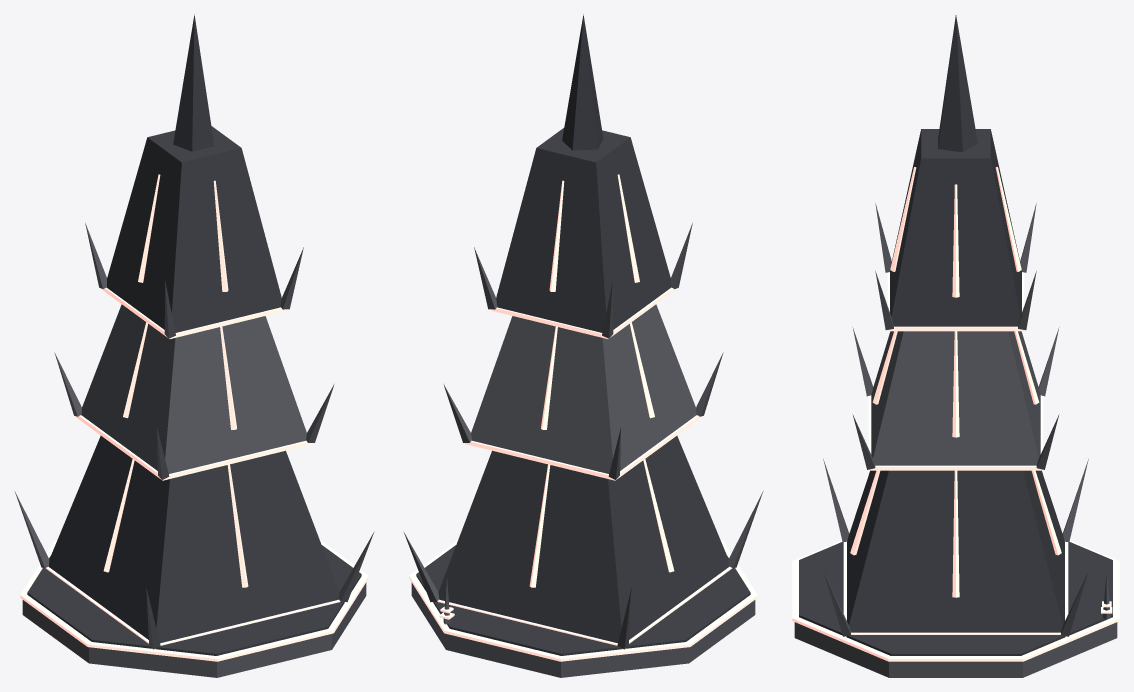
Rendered from zone_high_5_t2.glb.
3 renders of one model, left to right at view 1: azimuth 30°, elevation 25°; view 2: azimuth 150°, elevation 25°; view 3: azimuth 270°, elevation 25°, orthographic.
Parts seen in each view (by area): view 1: zone_high_5_t2; view 2: zone_high_5_t2; view 3: zone_high_5_t2.
Boxes of the visible parts, x1,y1,x2,y2 form: zone_high_5_t2: (14, 14, 374, 677); zone_high_5_t2: (403, 14, 763, 677); zone_high_5_t2: (792, 15, 1119, 677).
Size of the model in its own units: 27.35 by 54.95 by 27.35.
